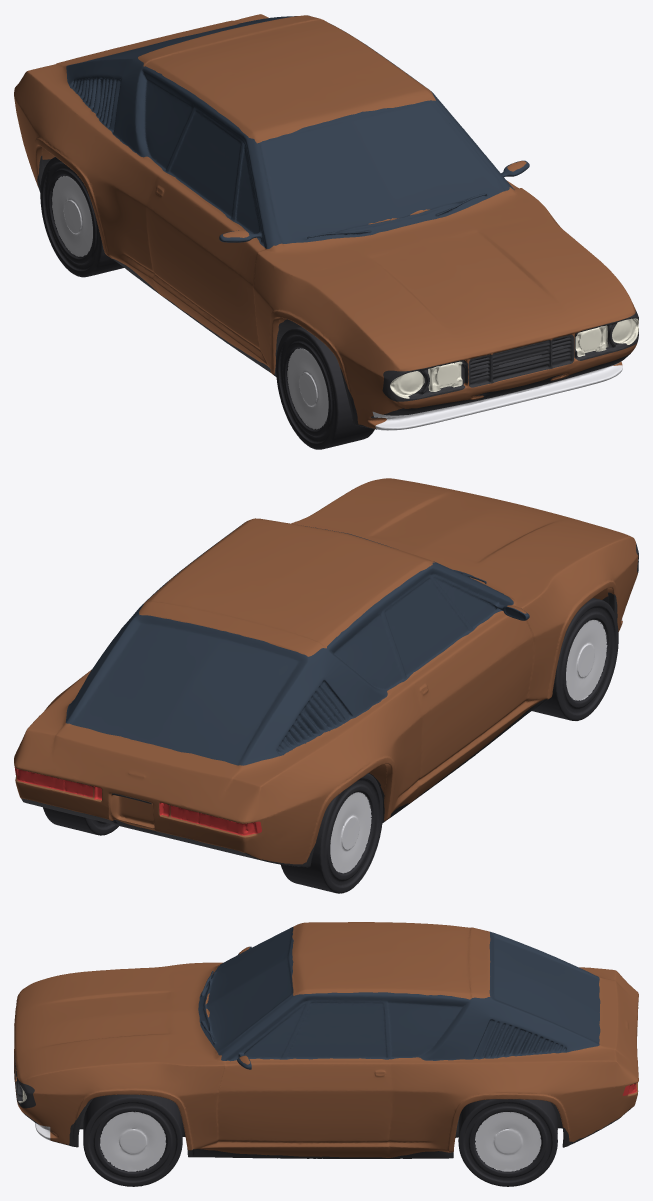
The model's file is r17.full-backup.glb.
The picture shows the model from 3 angles, top to bottom: view 1: azimuth 30°, elevation 25°; view 2: azimuth 150°, elevation 25°; view 3: azimuth 270°, elevation 25°; orthographic projection. The views are drawn at different scales.
Visible parts, largest first — view 1: Body_paint, Body_glass, Body_trim, Wheel_FR_tire, Body_chrome, Wheel_RR_tire, Body_lamp, Wheel_FR_rim, Wheel_RR_rim; view 2: Body_paint, Body_glass, Wheel_RR_tire, Wheel_FR_tire, Wheel_RR_rim, Wheel_FR_rim, Body_tail, Body_trim, Wheel_RL_tire; view 3: Body_paint, Body_glass, Wheel_FL_tire, Wheel_RL_tire, Wheel_RL_rim, Wheel_FL_rim, Body_trim.
Part boxes in pixels (left/top/right/bottom): Body_paint: left=14, top=14, right=637, bottom=428; Body_glass: left=66, top=15, right=529, bottom=248; Body_trim: left=31, top=156, right=638, bottom=429; Wheel_FR_tire: left=275, top=326, right=374, bottom=449; Body_chrome: left=372, top=359, right=624, bottom=430; Wheel_RR_tire: left=40, top=157, right=123, bottom=277; Body_lamp: left=390, top=318, right=638, bottom=398; Wheel_FR_rim: left=287, top=348, right=328, bottom=429; Wheel_RR_rim: left=52, top=176, right=92, bottom=256; Body_paint: left=14, top=478, right=638, bottom=864; Body_glass: left=65, top=522, right=529, bottom=765; Wheel_RR_tire: left=281, top=773, right=383, bottom=893; Wheel_FR_tire: left=532, top=598, right=618, bottom=720; Wheel_RR_rim: left=330, top=792, right=371, bottom=873; Wheel_FR_rim: left=566, top=620, right=607, bottom=700; Body_tail: left=14, top=767, right=261, bottom=835; Body_trim: left=21, top=543, right=638, bottom=867; Wheel_RL_tire: left=43, top=807, right=118, bottom=835; Body_paint: left=14, top=922, right=638, bottom=1157; Body_glass: left=198, top=927, right=600, bottom=1069; Wheel_FL_tire: left=83, top=1094, right=182, bottom=1186; Wheel_RL_tire: left=458, top=1099, right=557, bottom=1186; Wheel_RL_rim: left=475, top=1112, right=541, bottom=1171; Wheel_FL_rim: left=100, top=1111, right=166, bottom=1171; Body_trim: left=14, top=1051, right=635, bottom=1158.
Bounding box in the file's own units: 1.81 × 1.27 × 4.
